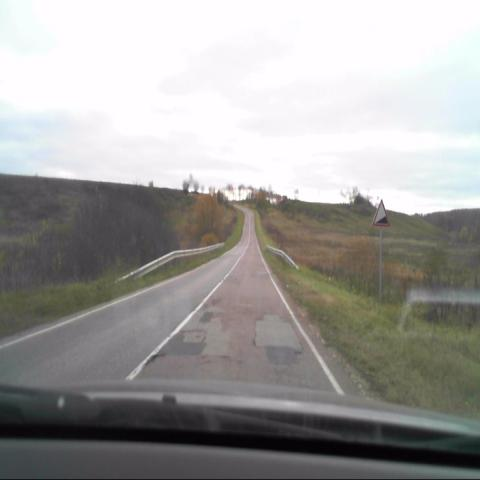1_14: (370, 200, 390, 230)
